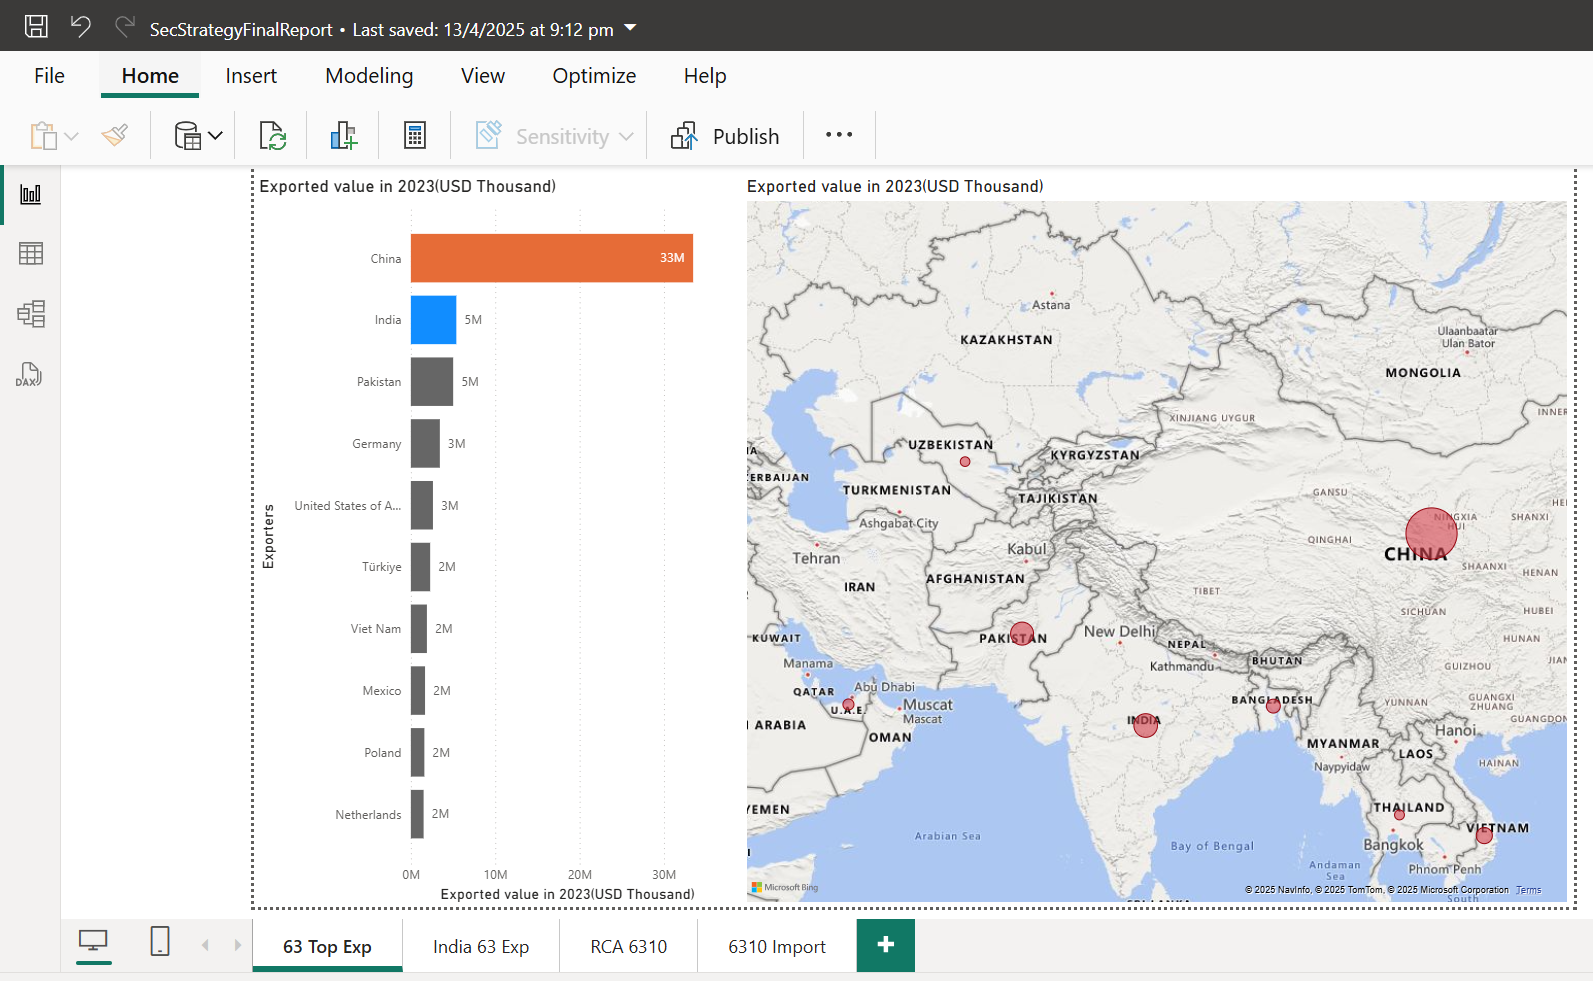

What the dashboard file says about the page in this screenshot:
{"tool":"powerbi","page":{"name":"63 Top Exp","canvas":[1280,720],"ordinal":0},"visuals":[{"type":"map","title":"Exported value in 2023(USD Thousand)","fields":{"Size":["Sum(63-Exporters.Exported value in 2023)"],"Category":["63-Exporters.Exporters"]},"box":[473.1,10.2,806.4,710.3],"z":0},{"type":"barChart","title":"Exported value in 2023(USD Thousand)","fields":{"Category":["63-Exporters.Exporters"],"Y":["Sum(63-Exporters.Exported value in 2023)"]},"box":[0,10.2,473.1,710.3],"z":1000}]}

Visuals, with their boxes on the page's 1280x720 design canvas (x1, y1, x2, y2). These are canvas units, not pixel positions in the 1593x981 screenshot, which may show the page scaled, cropped or inside an application window:
"Exported value in 2023(USD Thousand)" map: box=[473, 10, 1280, 720]
"Exported value in 2023(USD Thousand)" barChart: box=[0, 10, 473, 720]
